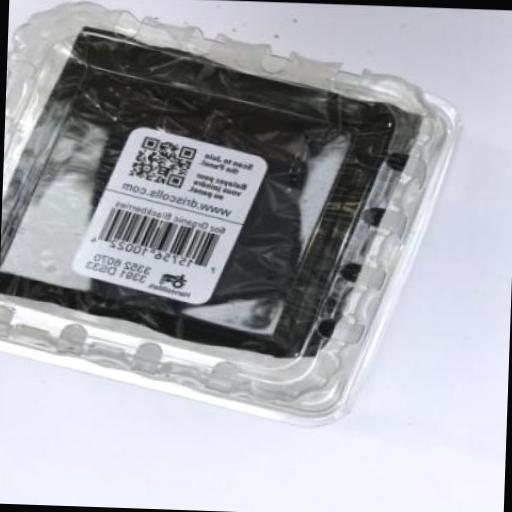plastic: (0, 0, 467, 431)
